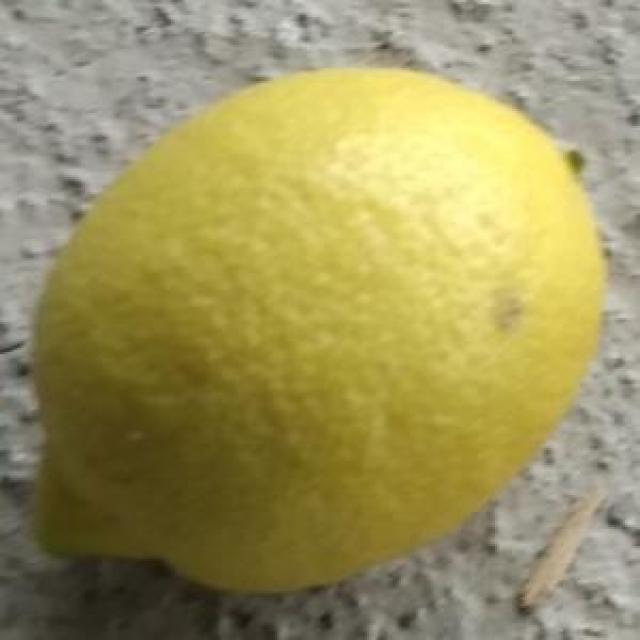lemon: (34, 60, 608, 592)
